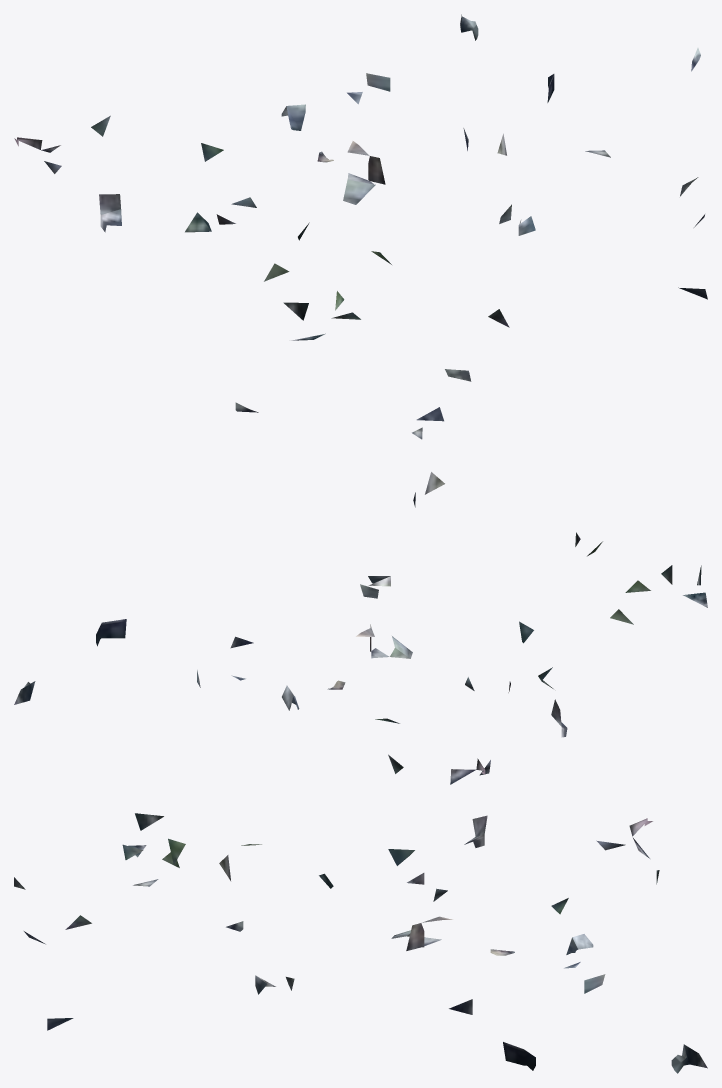
The picture shows the model from 3 angles, top to bottom: view 1: azimuth 30°, elevation 25°; view 2: azimuth 150°, elevation 25°; view 3: azimuth 270°, elevation 25°; orthographic projection. The views are drawn at different scales.
Visible parts, largest first — view 1: 304362727043617375_1; view 2: 304362727043617375_1; view 3: 304362727043617375_1.
Part boxes in pixels (<box>): 304362727043617375_1: <box>14,14,707,340</box>; 304362727043617375_1: <box>14,369,707,784</box>; 304362727043617375_1: <box>14,813,707,1073</box>.
Size of the model in its own units: 109 by 34.53 by 142.
Materials: 1 (1 with a texture image).
